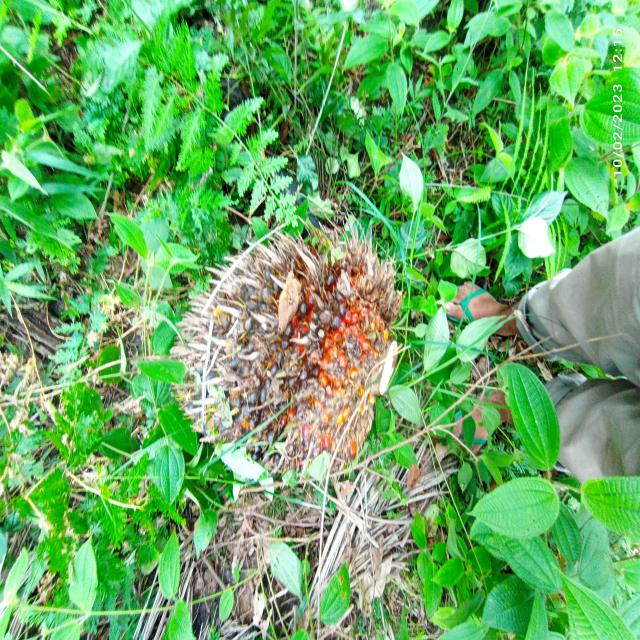fraksi 3: (177, 197, 406, 476)
